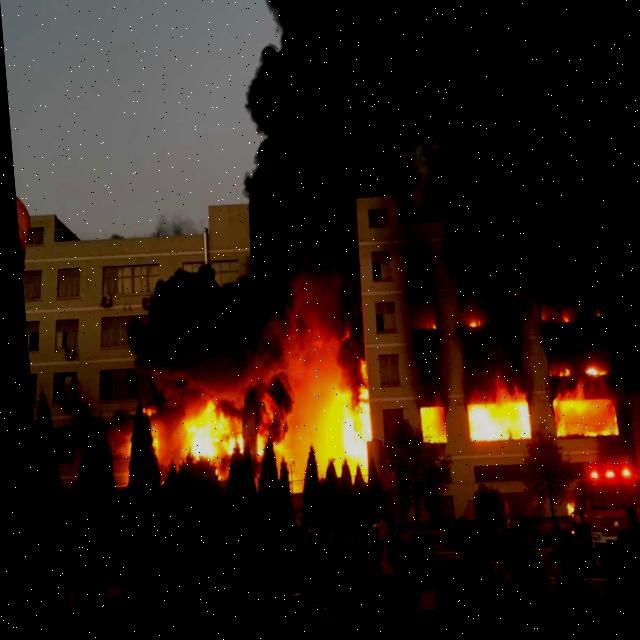Fire: (537, 308, 611, 454), (162, 396, 284, 474), (306, 382, 369, 475), (457, 400, 526, 456), (412, 405, 439, 455), (456, 314, 481, 342)
